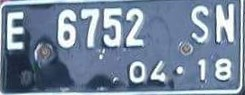plate: (1, 1, 243, 93)
